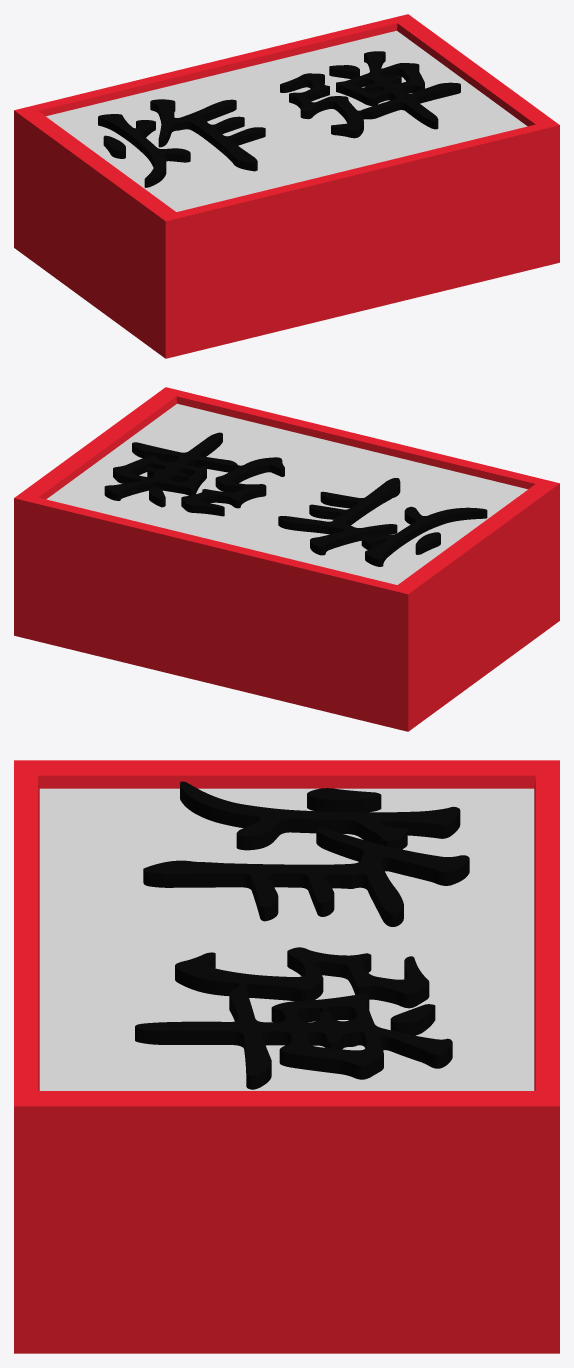
File: ii_zha_dan.fbx
The picture shows the model from 3 angles, top to bottom: view 1: azimuth 30°, elevation 25°; view 2: azimuth 150°, elevation 25°; view 3: azimuth 270°, elevation 25°; orthographic projection. The views are drawn at different scales.
Visible parts, largest first — view 1: Cube, 文本; view 2: Cube, 文本; view 3: Cube, 文本.
Boxes of the visible parts, x1=… form: Cube: x1=14, y1=14, x2=559, y2=358; 文本: x1=98, y1=51, x2=460, y2=187; Cube: x1=14, y1=387, x2=559, y2=731; 文本: x1=104, y1=432, x2=487, y2=566; Cube: x1=14, y1=760, x2=559, y2=1353; 文本: x1=135, y1=781, x2=469, y2=1089.
Size of the model in its own units: 240 by 80.47 by 160.
